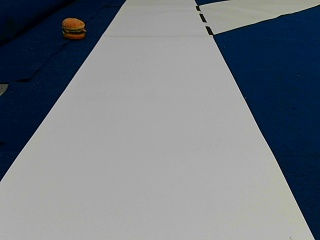burger: (61, 16, 86, 38)
